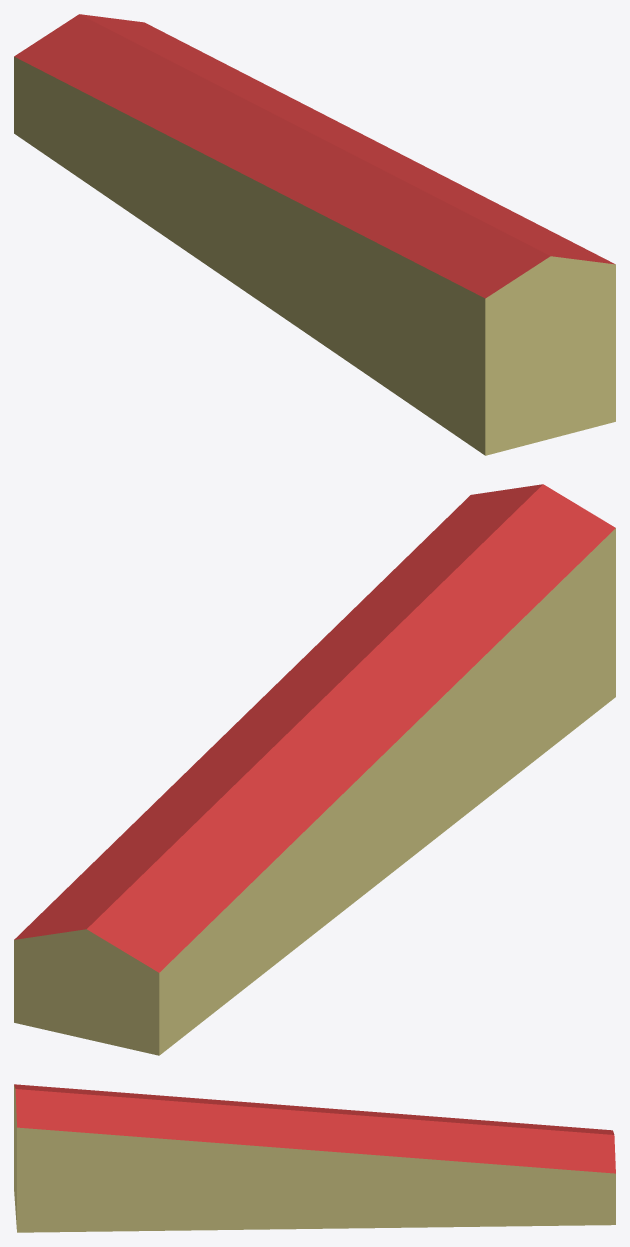
3 views of the same model, one above another, from view 1: azimuth 30°, elevation 25°; view 2: azimuth 150°, elevation 25°; view 3: azimuth 270°, elevation 25° (orthographic). The views are drawn at different scales.
Size of the model in its own units: 12 by 59.94 by 13.41.
